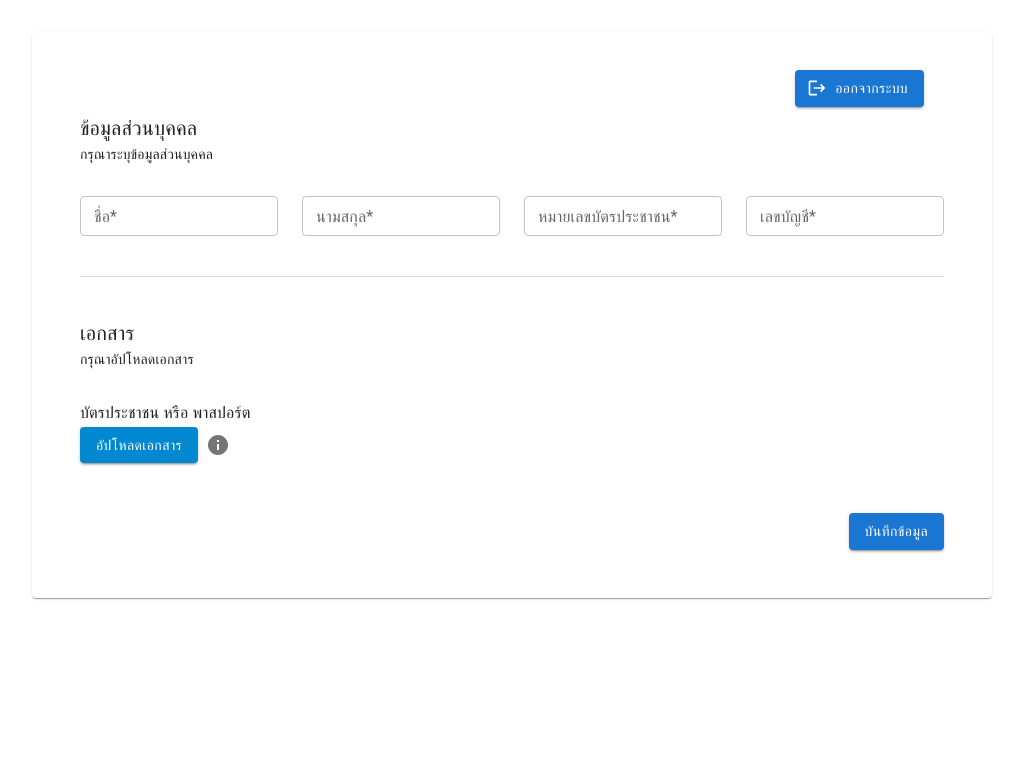
Test: <ConfirmView /> › show error text id card when submit
The width and height of the screenshot is (1024, 768).
Type "abcdefghij" into the field labelled "หมายเลขบัตรประชาชน*" at (623, 216), box [524,196,722,236]
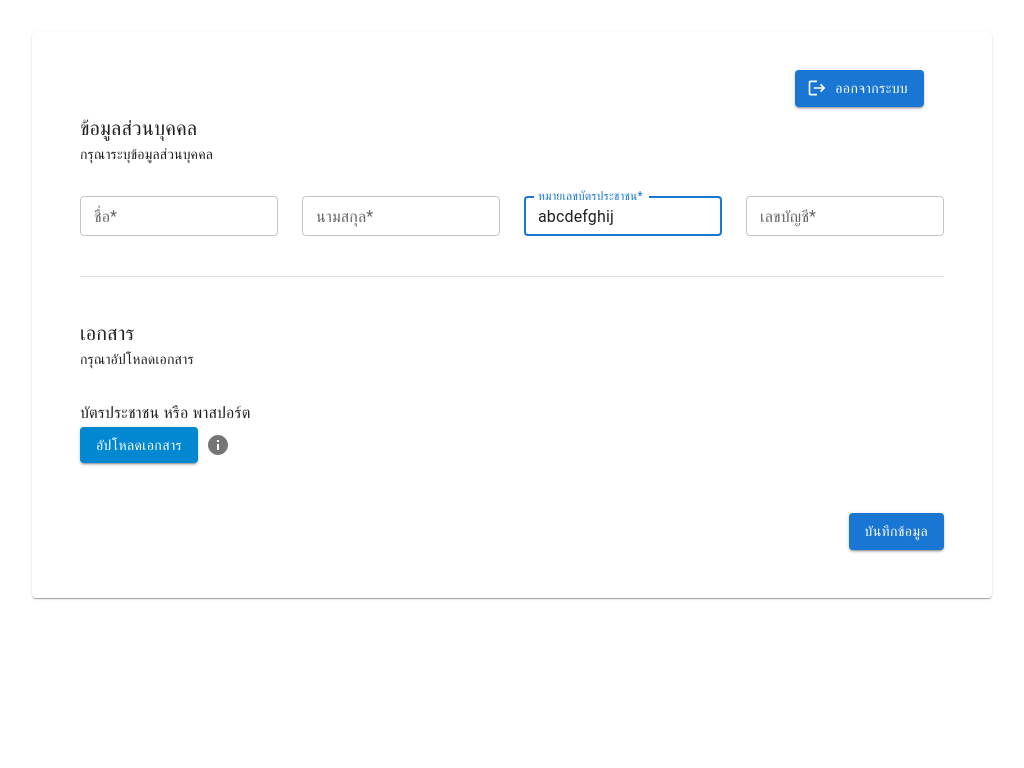
Click the button with test id "submit-button" at (896, 531), box [848,513,944,550]
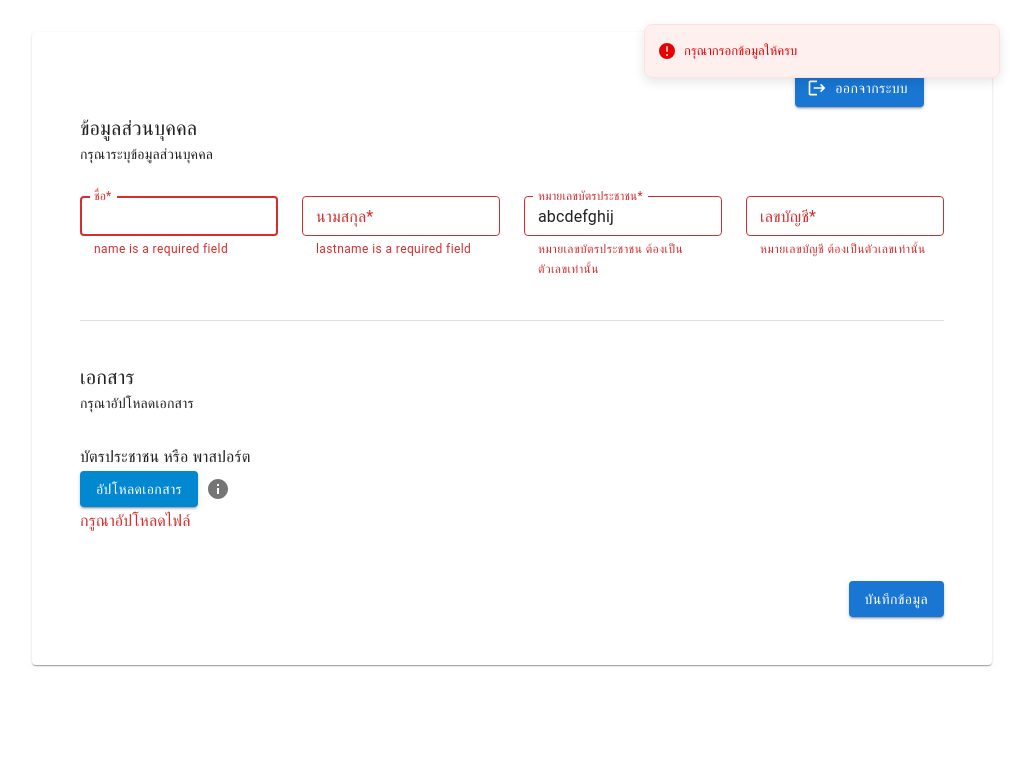
Expected: the text "หมายเลขบัตรประชาชน ต้องเป็นตัวเลขเท่านั้น" is shown, [538,240,708,280]
